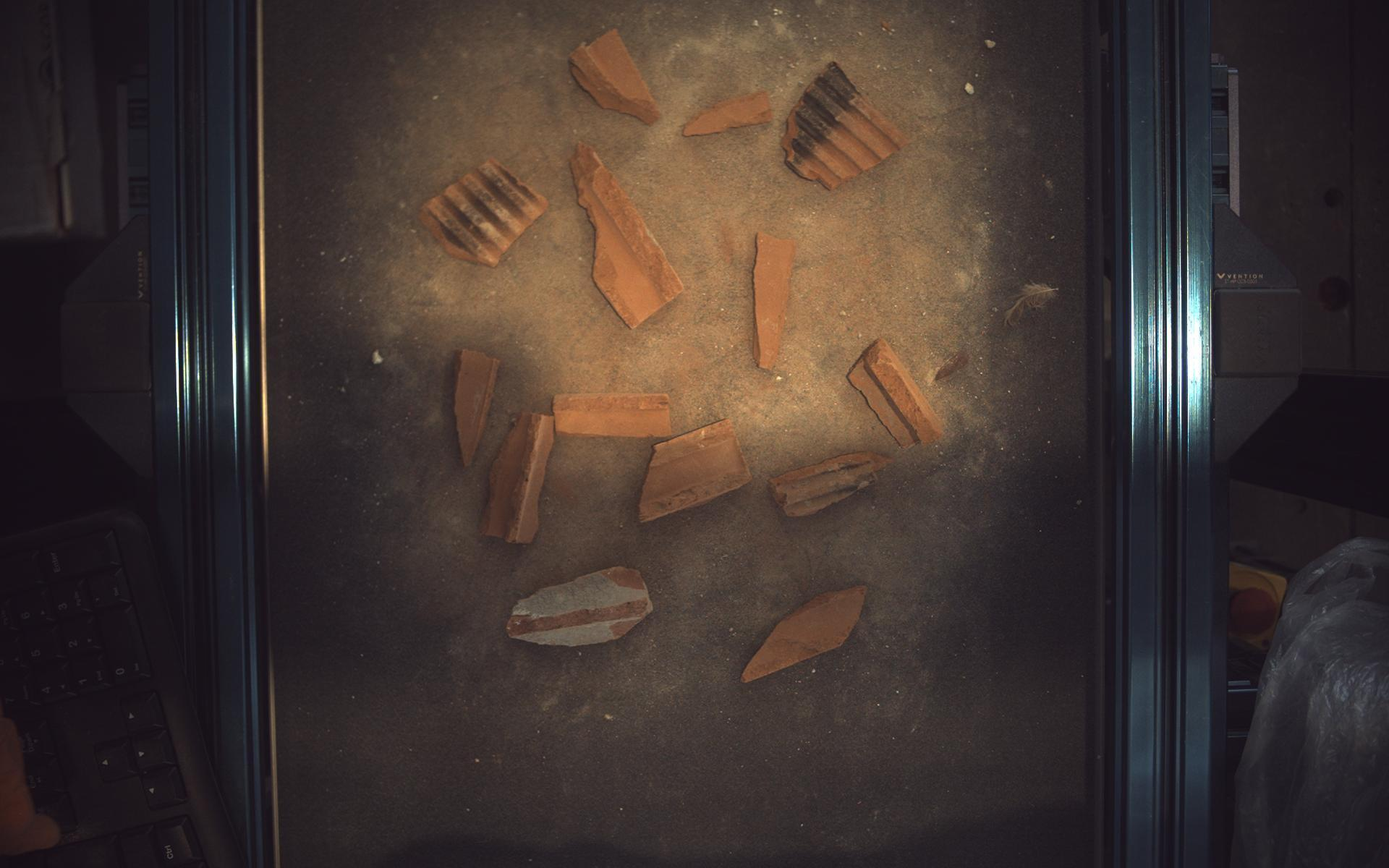brick: (571, 142, 684, 328), (783, 60, 911, 189), (420, 158, 548, 267), (743, 587, 867, 684), (506, 567, 653, 647), (640, 420, 752, 523), (849, 339, 945, 448), (480, 413, 555, 544), (572, 27, 660, 124), (772, 452, 893, 517), (755, 231, 797, 369), (454, 349, 500, 467), (554, 393, 672, 438), (684, 90, 774, 135)
